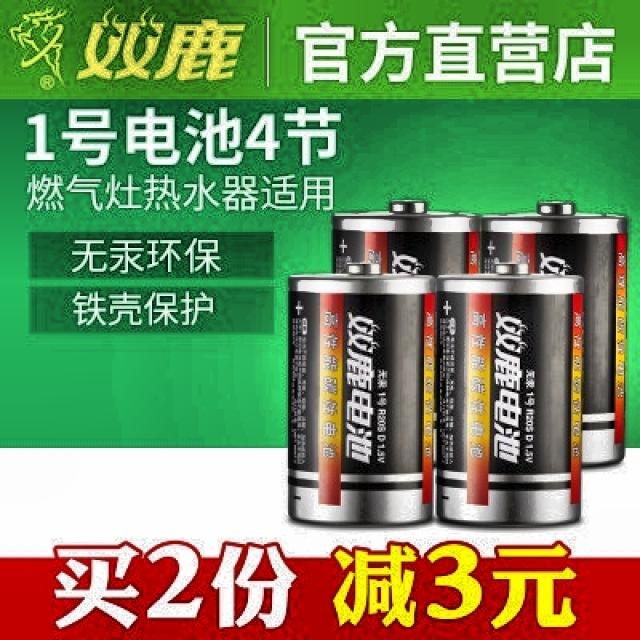Non-Valuable Waste - Batteries: (484, 202, 628, 464), (439, 262, 582, 524), (289, 276, 435, 524), (334, 201, 479, 276)
